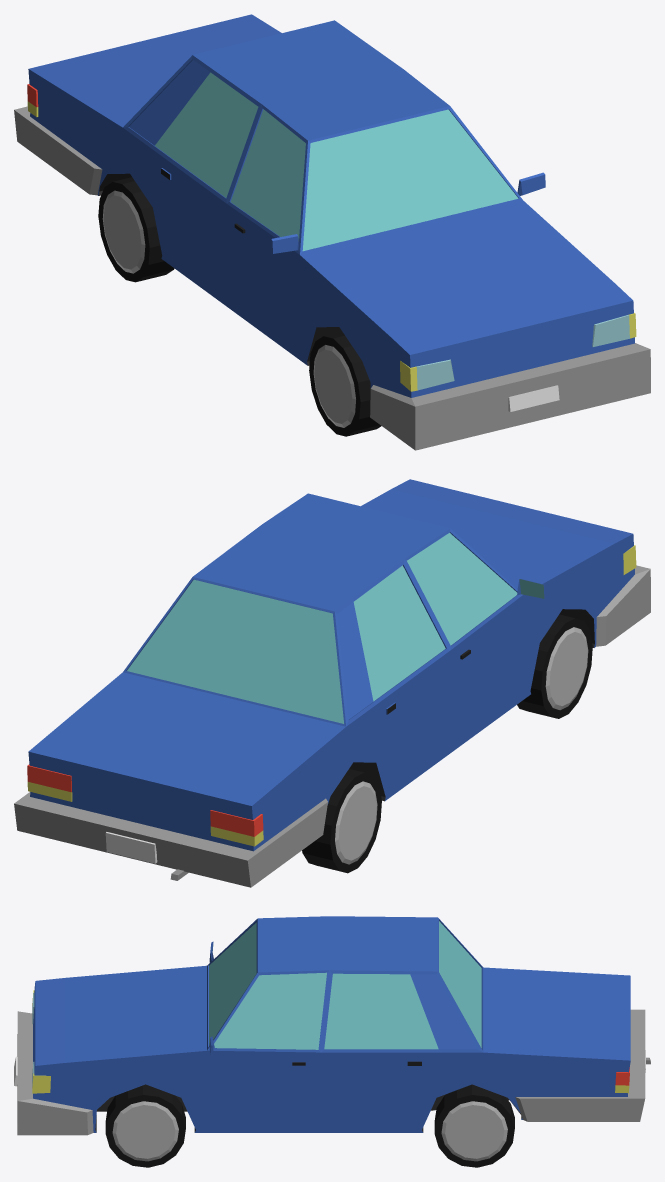
File: lp_car6.fbx
3 views of the same model, one above another, from view 1: azimuth 30°, elevation 25°; view 2: azimuth 150°, elevation 25°; view 3: azimuth 270°, elevation 25° (orthographic). The views are drawn at different scales.
Parts seen in each view (by area): view 1: Car, wheel_BR, wheel_FR; view 2: Car, wheel_BR, wheel_FR; view 3: Car, wheel_BL, wheel_FL.
Part boxes in pixels (x1,y1,x2,y2): Car: [14, 14, 650, 450]; wheel_BR: [98, 177, 174, 282]; wheel_FR: [309, 331, 381, 436]; Car: [14, 479, 650, 887]; wheel_BR: [302, 769, 381, 873]; wheel_FR: [517, 614, 592, 718]; Car: [14, 916, 650, 1135]; wheel_BL: [434, 1084, 514, 1167]; wheel_FL: [105, 1084, 185, 1167].
Size of the model in its own units: 244 by 198 by 633.
